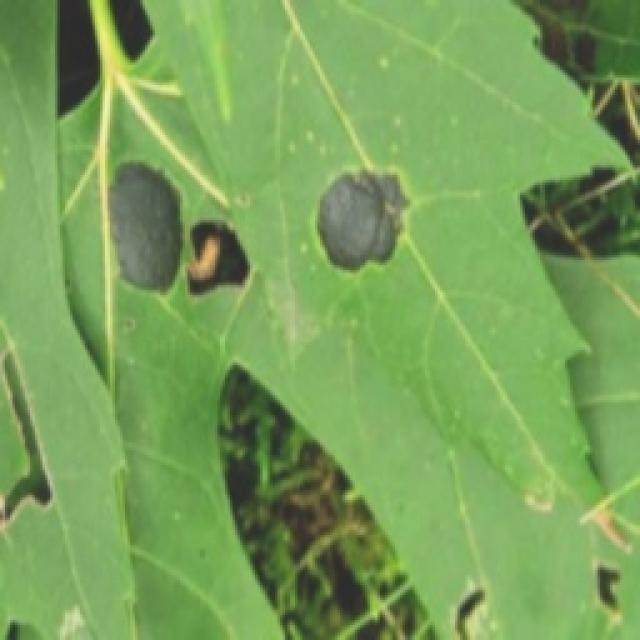Tar_Spot: (46, 100, 514, 316)
